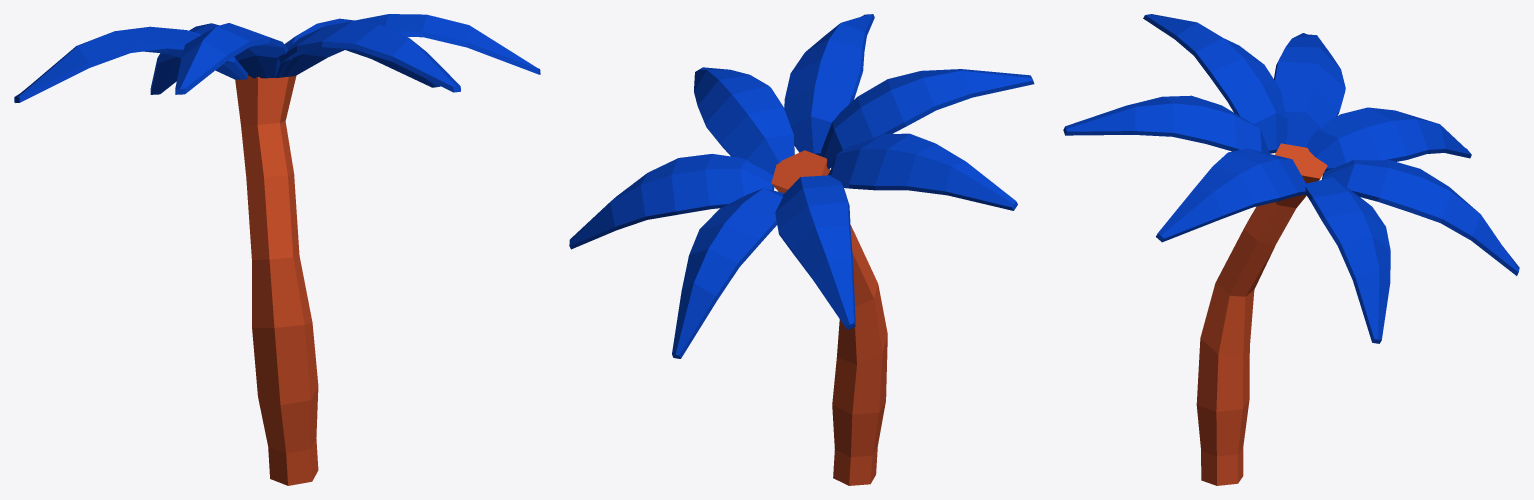
Rendered from palm.fbx.
3 renders of one model, left to right at view 1: azimuth 30°, elevation 25°; view 2: azimuth 150°, elevation 25°; view 3: azimuth 270°, elevation 25°, orthographic. The views are drawn at different scales.
Visible parts, largest first — view 1: Cube; view 2: Cube; view 3: Cube.
Boxes of the visible parts, box(x1,y1,x2,y2) form: Cube: box(14, 14, 540, 485); Cube: box(569, 14, 1034, 485); Cube: box(1063, 14, 1519, 485).
Bounding box in the file's own units: 6.67 × 6.52 × 6.54.
